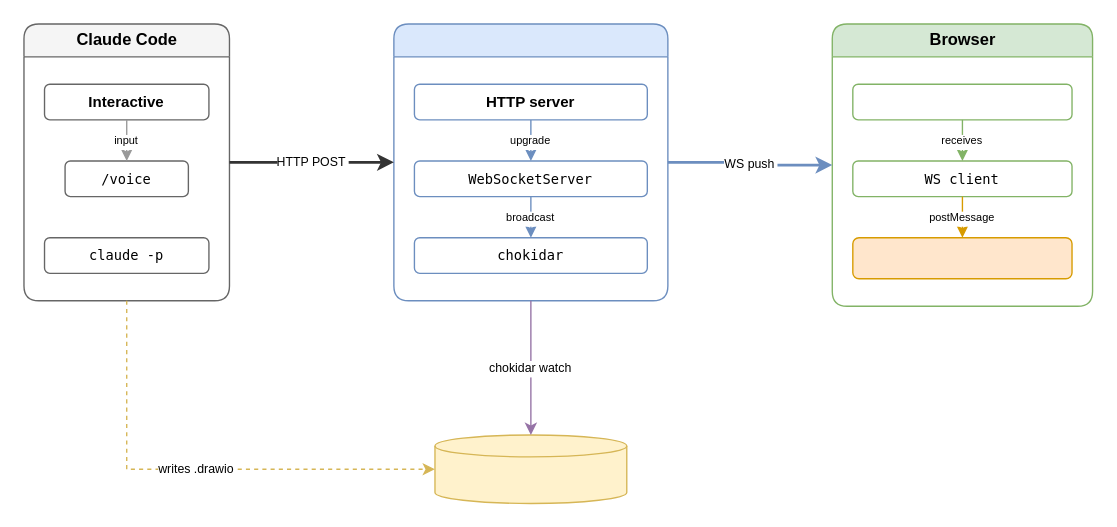
The diagram is 1117 pixels wide and 527 high, and some of its shapes have lost their labels. The box of each missing label's shape, as (x1, y1, x2, y2) in pixels:
diagrams/*.drawio: (434, 434, 627, 503)
draw.io iframe: (851, 236, 1072, 279)
index.html: (851, 83, 1072, 120)
server.ts :3000: (393, 23, 668, 301)
